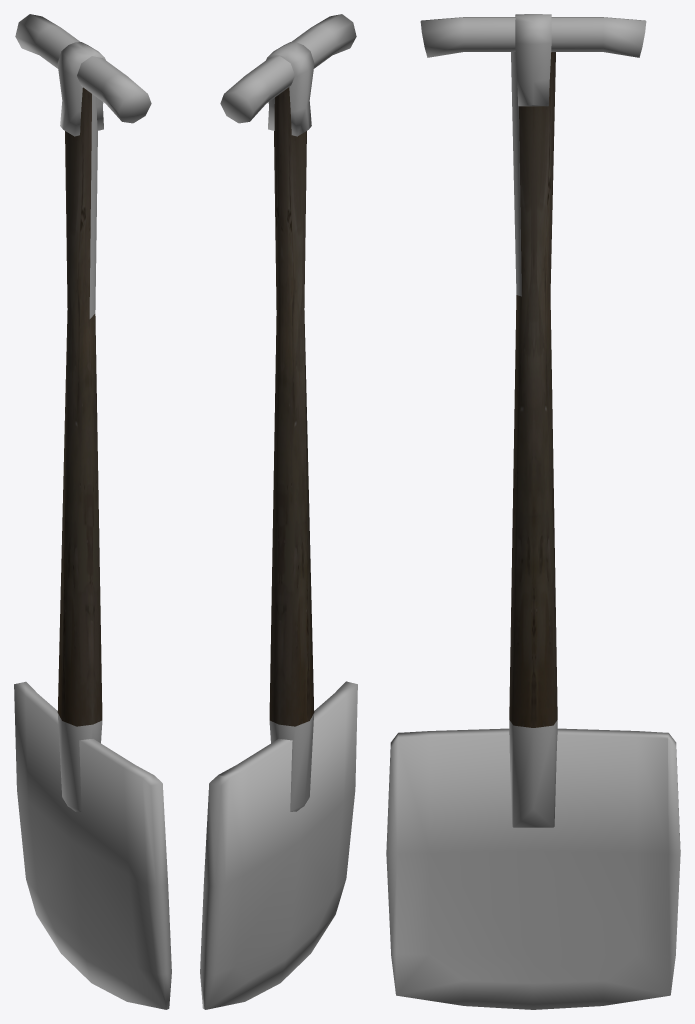
File: Spade.fbx
3 renders of one model, left to right at view 1: azimuth 30°, elevation 25°; view 2: azimuth 150°, elevation 25°; view 3: azimuth 270°, elevation 25°, orthographic. The views are drawn at different scales.
Parts seen in each view (by area): view 1: polySurface24; view 2: polySurface24; view 3: polySurface24.
Boxes of the visible parts, bbox=[...] form: polySurface24: bbox=[14, 14, 171, 1009]; polySurface24: bbox=[200, 14, 357, 1009]; polySurface24: bbox=[386, 14, 680, 1009].
Bounding box in the file's own units: 0.0849 × 1.79 × 0.4834.
